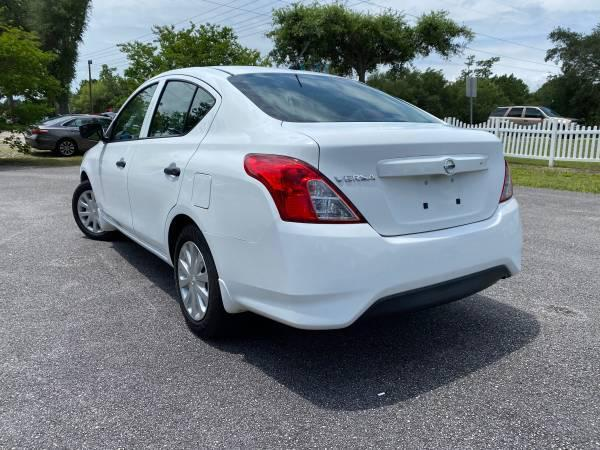Front_Left_Door: (90, 140, 137, 236)
Front_Left_Window: (99, 83, 161, 143)
Left_Taillight: (242, 153, 367, 223)
Rear_Bumper: (205, 196, 526, 325)
Rear_Fender: (171, 123, 320, 241)
Rear_Left_Door: (125, 134, 204, 266)
Rear_Left_Window: (141, 75, 217, 138)
Rear_Windshield: (232, 72, 447, 123)
Roof: (119, 64, 338, 134)
Tailgate: (286, 124, 511, 234)
Wheel: (174, 233, 219, 340), (72, 183, 103, 236)
